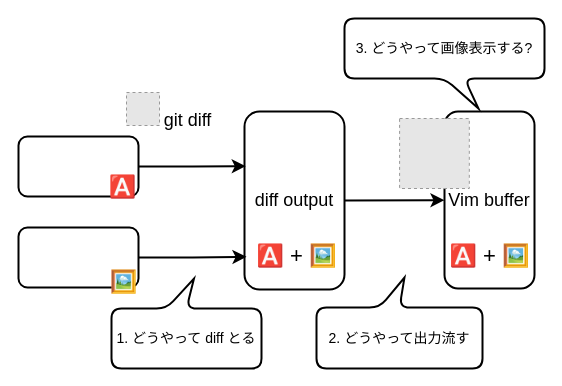
Image size: 562x386. Some labels were removed from this diagram. Grey dashed boxes stand in for pictures. The box of each missing label's shape, as (x1, y1, x2, y2) in pixels:
image files: (17, 226, 139, 288)
text files: (17, 135, 139, 197)
